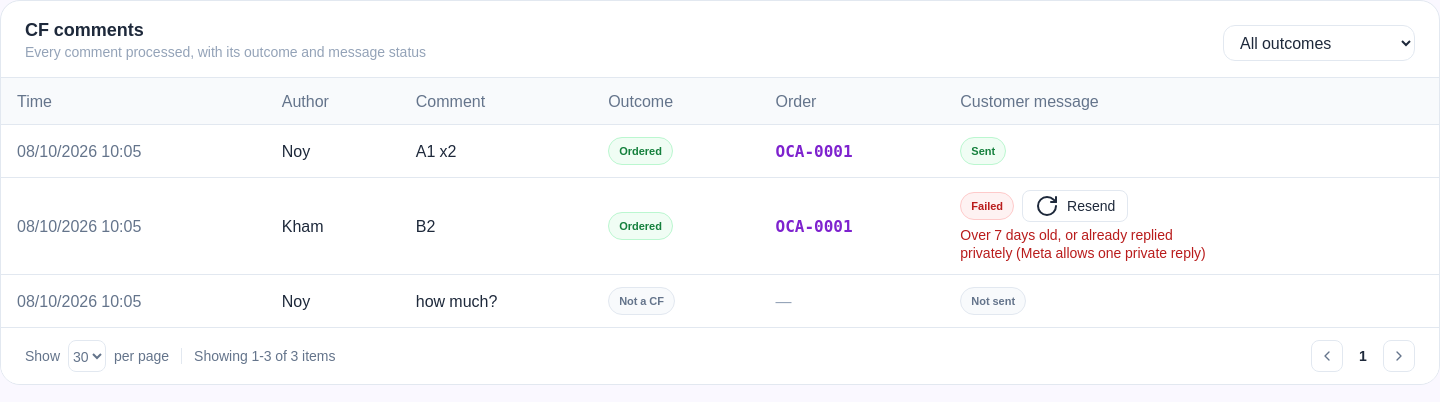
Test: CommentLedgerCard › ກອງຜົນ → ສົ່ງ outcome; ບໍ່ມີຜົນ = empty ແບບ filter
Check: the row with test id "row-comment-c1" is shown, box [1,124,1439,178]
Select "Out of stock" in the dropdown named "Filter by outcome" at (1319, 43), box [1223,25,1415,61]
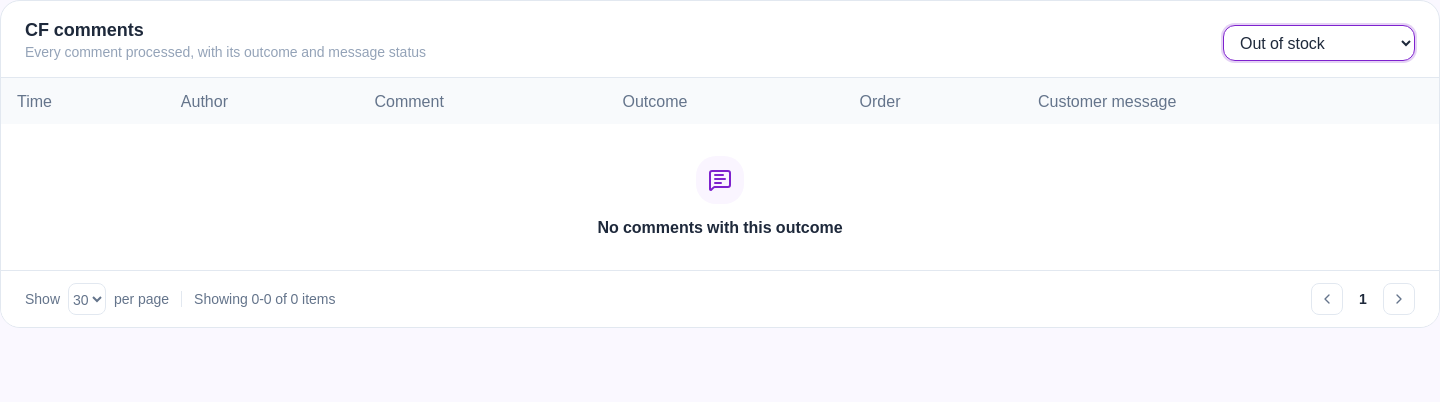
Check: the text "No comments with this outcome" is shown, box [597,216,842,238]
